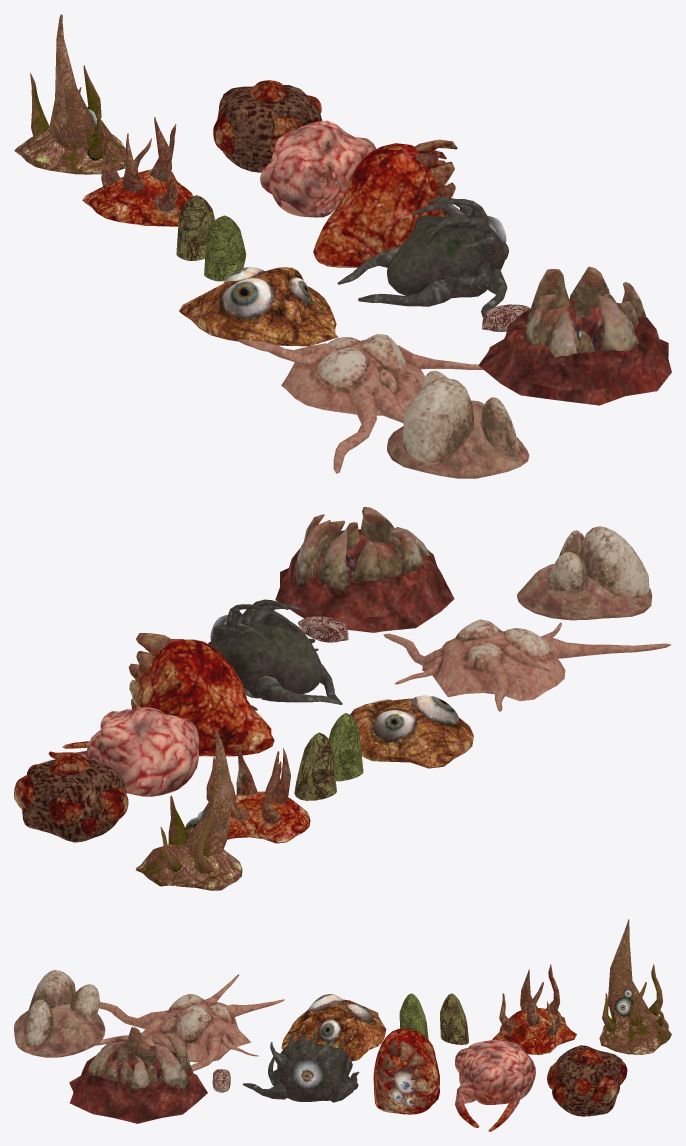
Rendered from psx-eldritch.glb.
The picture shows the model from 3 angles, top to bottom: view 1: azimuth 30°, elevation 25°; view 2: azimuth 150°, elevation 25°; view 3: azimuth 270°, elevation 25°; orthographic projection. The views are drawn at different scales.
Visible parts, largest first — view 1: Creature_13, Creature_12, Creature_11, Creature_7, Creature_8, Creature_6, Creature_3, Creature_10, Creature_9, Creature_4, Creature_5, Creature_5_var_2 (+1 smaller); view 2: Creature_13, Creature_11, Creature_7, Creature_8, Creature_12, Creature_10, Creature_9, Creature_3, Creature_6, Creature_4, Creature_5_var_2, Creature_5 (+1 smaller); view 3: Creature_13, Creature_7, Creature_8, Creature_3, Creature_12, Creature_10, Creature_11, Creature_9, Creature_6, Creature_4, Creature_5_var_2, Creature_5 (+1 smaller).
Boxes of the visible parts, x1,y1,x2,y2 form: Creature_13: (478, 266, 671, 405); Creature_12: (337, 197, 508, 317); Creature_11: (313, 139, 457, 267); Creature_7: (238, 334, 483, 473); Creature_8: (387, 370, 529, 478); Creature_6: (179, 267, 338, 346); Creature_3: (14, 14, 125, 174); Creature_10: (260, 120, 376, 217); Creature_9: (213, 80, 321, 172); Creature_4: (82, 117, 193, 226); Creature_5: (204, 215, 246, 281); Creature_5_var_2: (176, 195, 215, 260); Creature_13: (275, 507, 454, 632); Creature_11: (128, 633, 274, 756); Creature_7: (383, 619, 671, 711); Creature_8: (517, 526, 652, 620); Creature_12: (208, 599, 342, 710); Creature_10: (48, 707, 199, 796); Creature_9: (14, 753, 128, 842); Creature_3: (135, 730, 242, 890); Creature_6: (350, 695, 473, 768); Creature_4: (206, 746, 310, 843); Creature_5_var_2: (294, 732, 336, 800); Creature_5: (328, 713, 363, 781); Creature_13: (69, 1027, 207, 1123); Creature_7: (95, 974, 284, 1071); Creature_8: (14, 970, 105, 1057); Creature_3: (599, 919, 671, 1054); Creature_12: (242, 1031, 359, 1102); Creature_10: (455, 1039, 535, 1131); Creature_11: (373, 1028, 439, 1114); Creature_9: (547, 1045, 627, 1116); Creature_6: (281, 994, 386, 1061); Creature_4: (492, 964, 576, 1054); Creature_5_var_2: (440, 993, 468, 1044); Creature_5: (399, 993, 428, 1039).
Bounding box in the file's own units: 9.45 × 4.21 × 19.97.
Materials: 13 (13 with a texture image).
